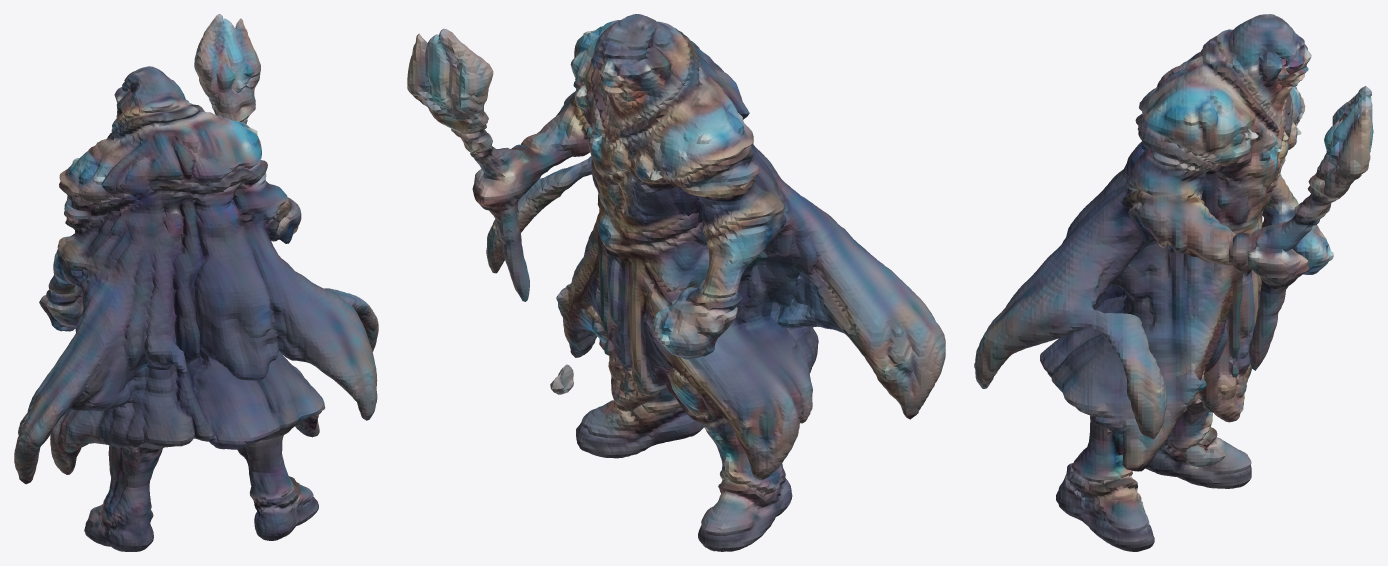
File: character_mage.glb
3 views of the same model, side by side, from view 1: azimuth 30°, elevation 25°; view 2: azimuth 150°, elevation 25°; view 3: azimuth 270°, elevation 25° (orthographic). The views are drawn at different scales.
Visible parts, largest first — view 1: geometry_0; view 2: geometry_0; view 3: geometry_0.
Part boxes in pixels (x1=…): geometry_0: x1=14, y1=14, x2=378, y2=551; geometry_0: x1=407, y1=14, x2=945, y2=551; geometry_0: x1=974, y1=14, x2=1373, y2=551.
Bounding box in the file's own units: 0.8657 × 0.9872 × 0.719.
